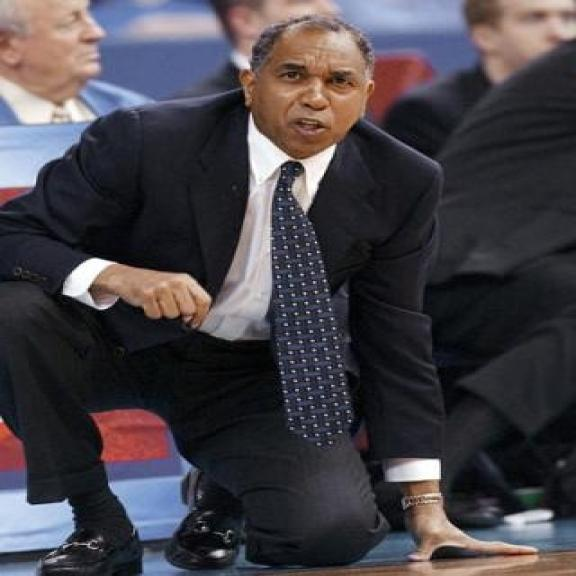face: (228, 24, 377, 156), (0, 0, 120, 98), (451, 2, 576, 77)
